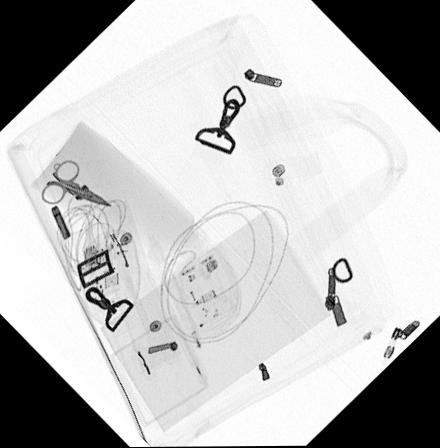Scissors: (39, 159, 112, 208)
